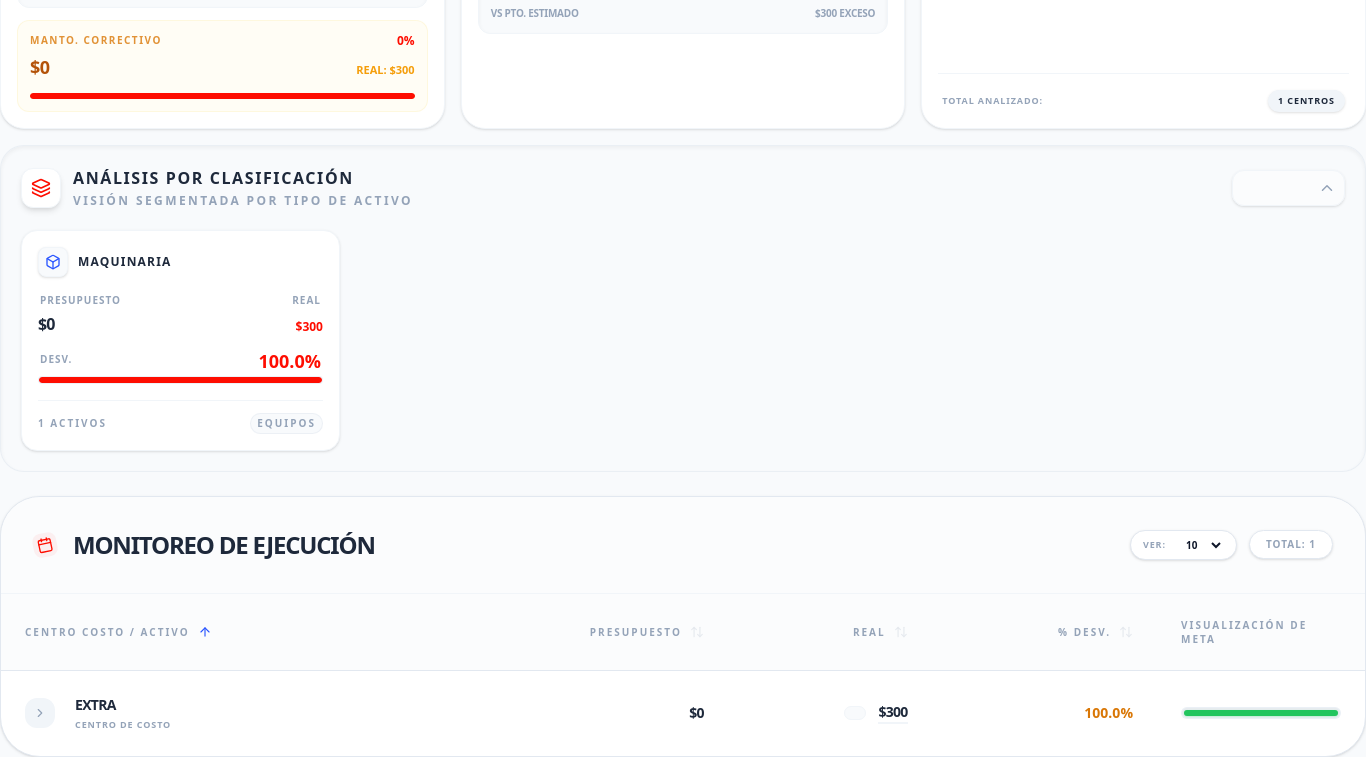
Test: ExecutionMonitor Component › debe manejar gastos no presupuestados correctamente
(page scrolled)
Step 1. Click the text "EXTRA" → (95, 705), box [75,695,116,714]
(page scrolled)
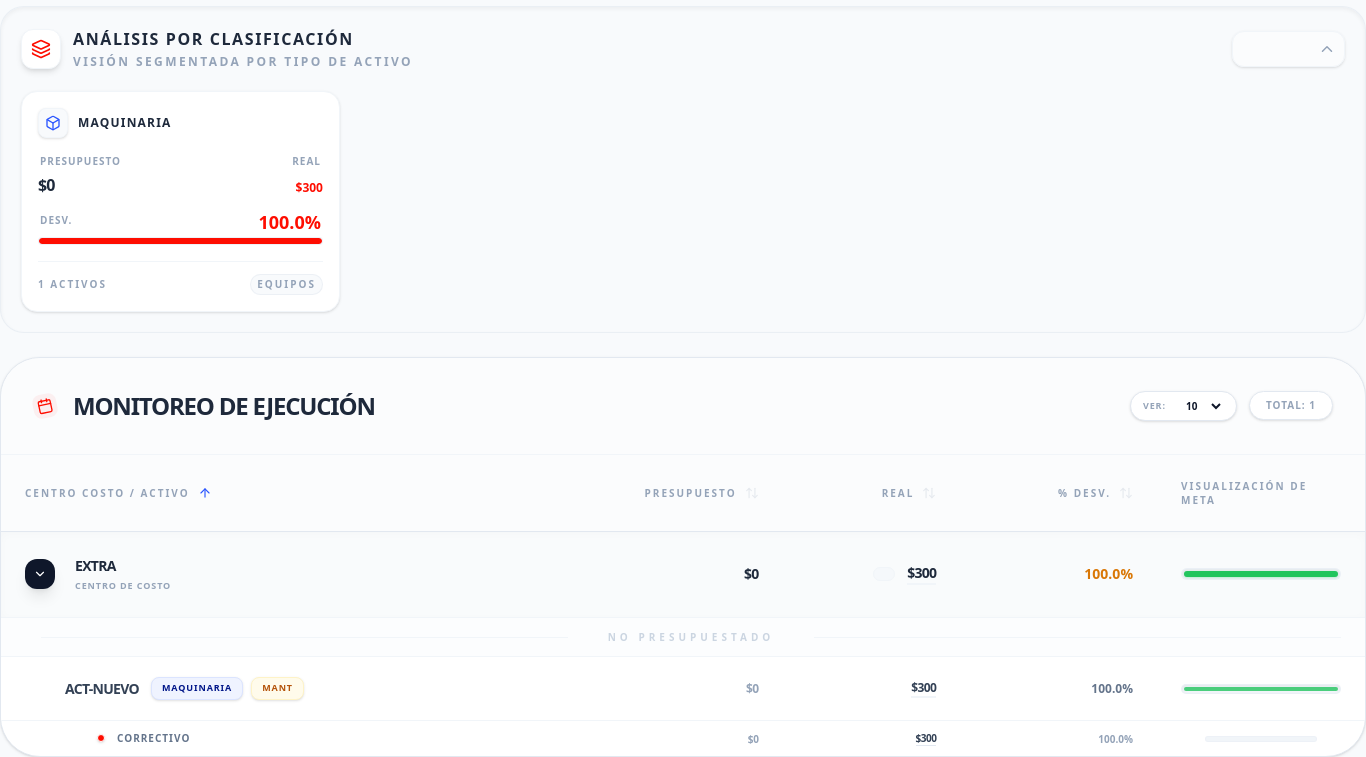
Now the text "No Presupuestado" is shown, box [608,630,774,644]
Now the text "ACT-NUEVO" is shown, box [65,679,139,699]
